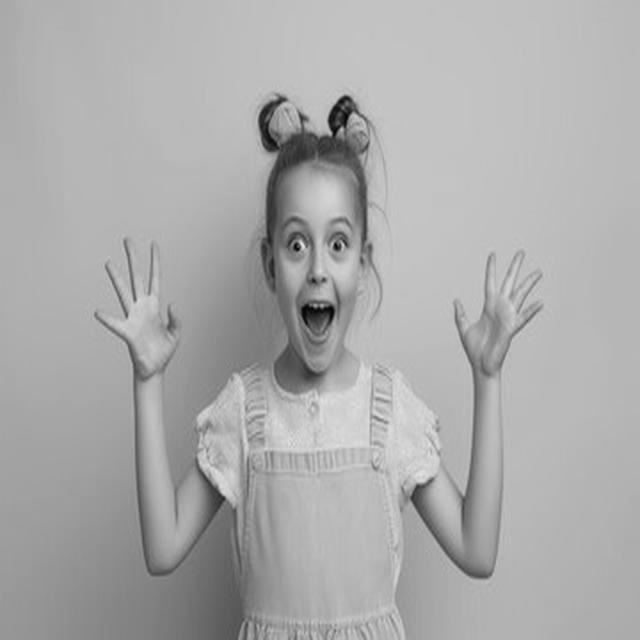Surprised: (273, 164, 363, 373)
